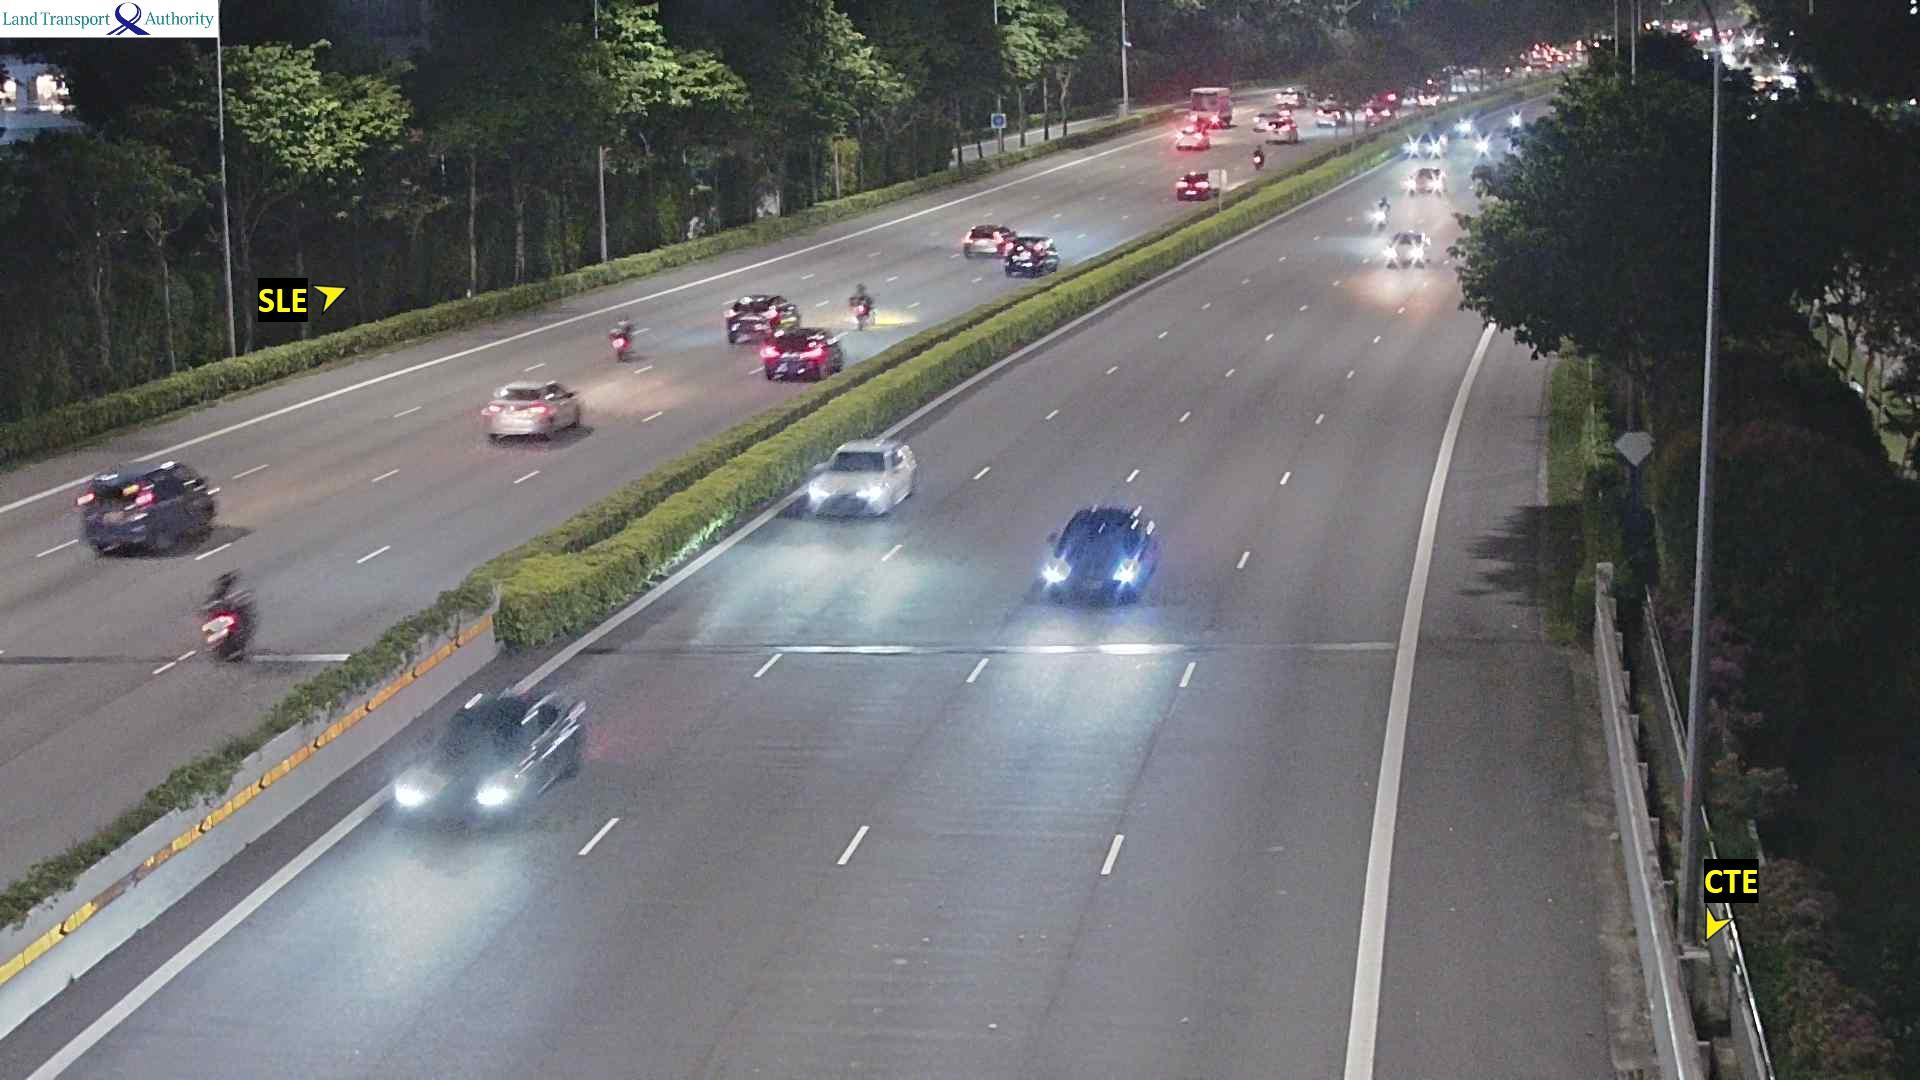incoming: (386, 723, 552, 832), (1036, 520, 1159, 600), (806, 450, 904, 517), (1384, 234, 1428, 270), (1407, 168, 1442, 202), (1406, 133, 1441, 160), (1375, 208, 1388, 231)
